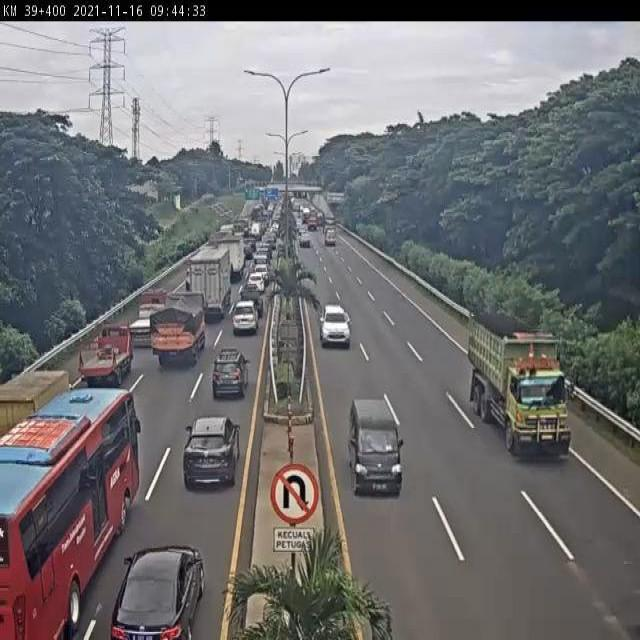big bus: (0, 389, 141, 639)
car: (111, 544, 206, 635), (343, 400, 412, 504), (182, 414, 243, 498), (208, 344, 252, 400), (311, 296, 354, 344), (232, 295, 260, 336)
small truck: (0, 366, 74, 422), (82, 327, 135, 385), (133, 287, 161, 340)
truck-l-: (463, 310, 578, 470), (191, 243, 234, 320)
truck-m-: (147, 290, 209, 366)
